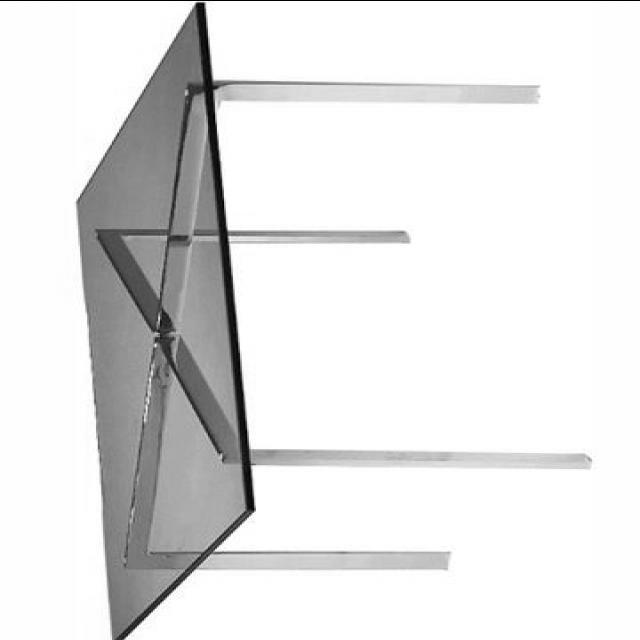table: (67, 4, 593, 639)
